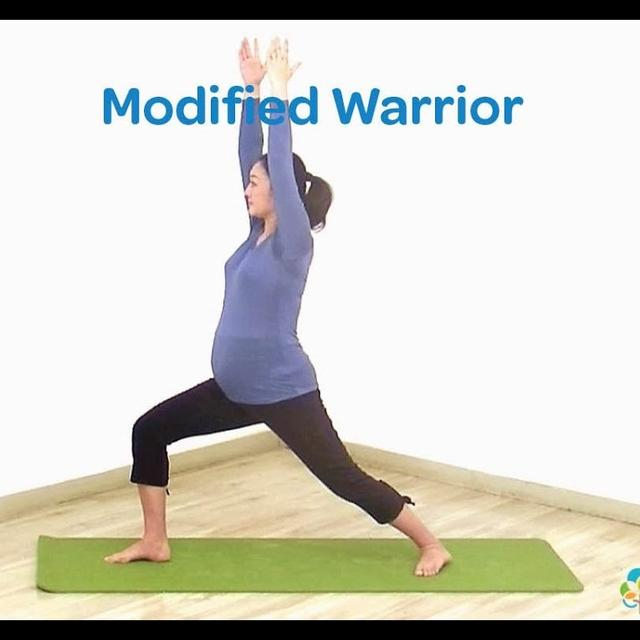Warrior_I: (106, 26, 456, 580)
